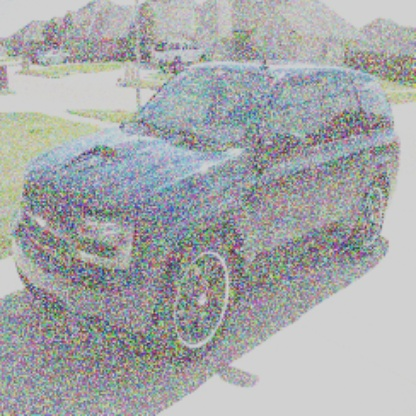Vehicle: (10, 58, 408, 367)
